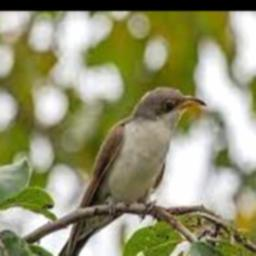Cuckoo: (32, 86, 207, 256)
